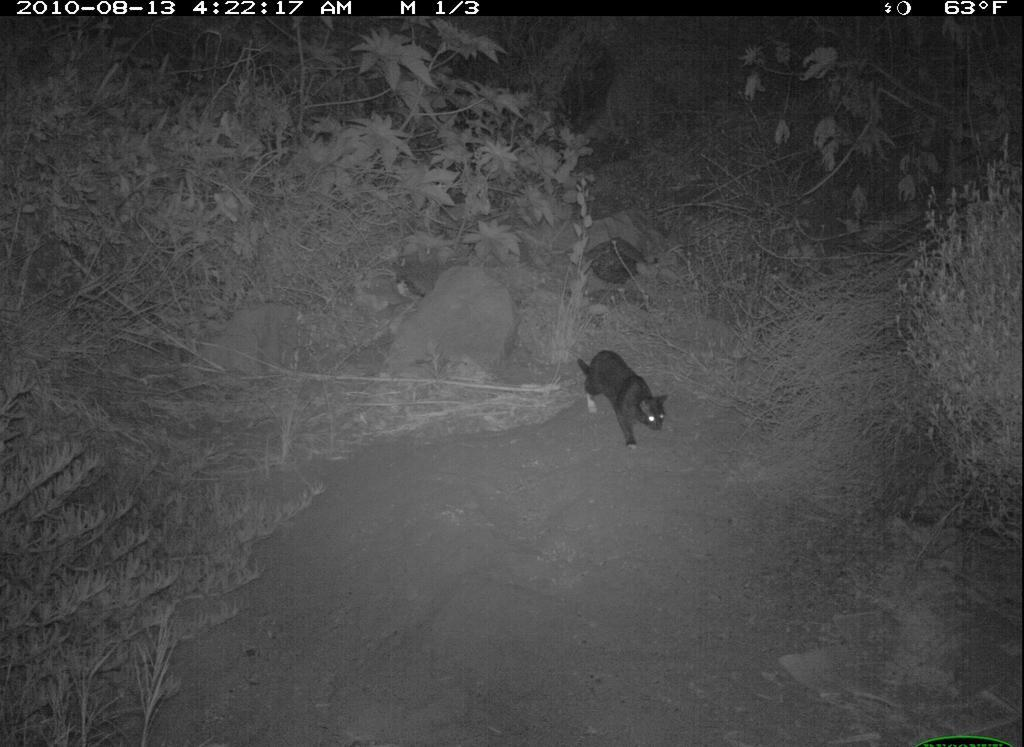cat: (569, 338, 684, 459)
